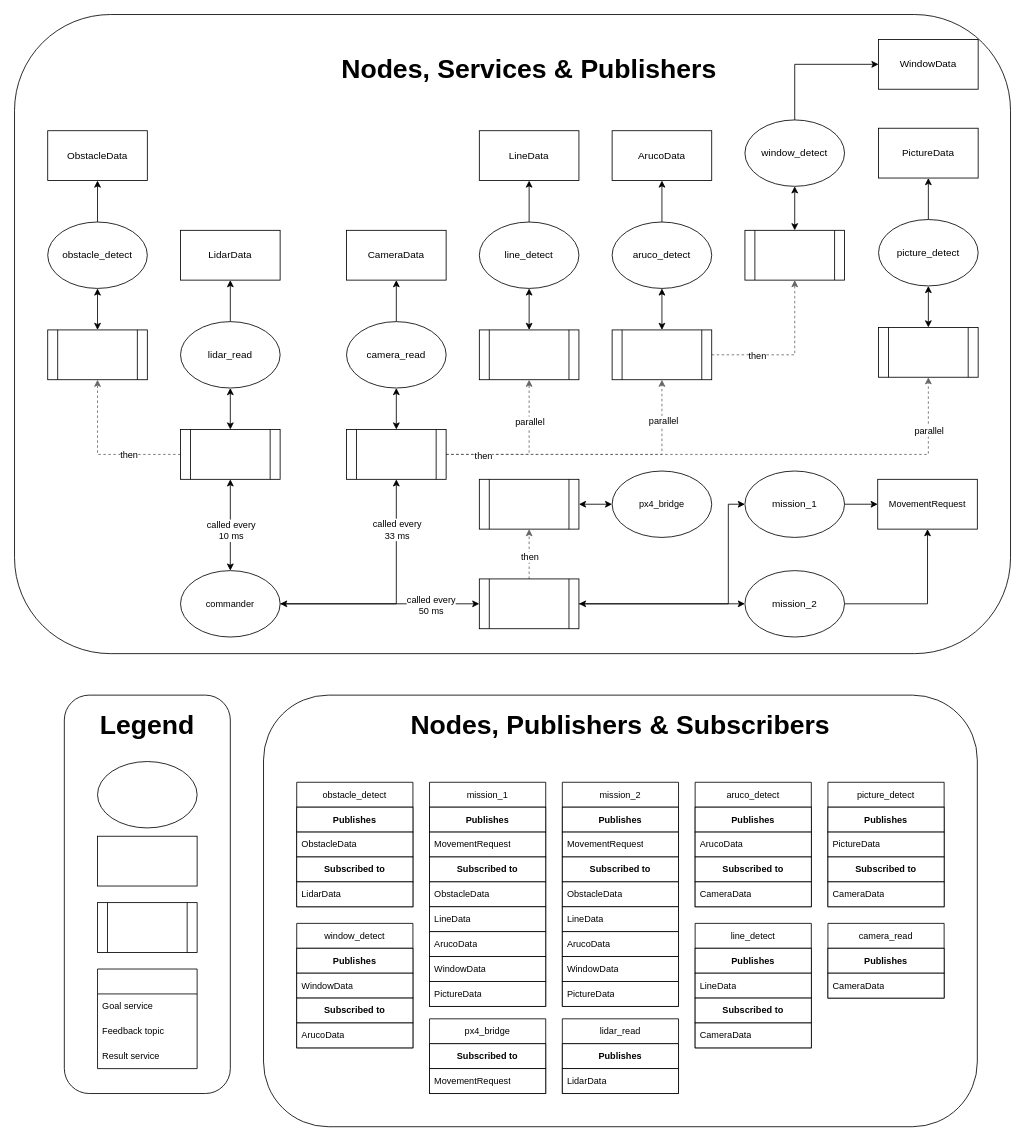
The diagram is 1025 pixels wide and 1141 high, and some of its shapes have lost their labels. Each missing label, with the box of its shape:
Action: (97, 968, 197, 1069)
detect_aruco: (611, 329, 712, 380)
detect_line: (478, 329, 579, 380)
detect_obstacle: (47, 329, 147, 380)
detect_picture: (878, 327, 978, 377)
detect_window: (744, 229, 845, 280)
Node: (97, 761, 197, 828)
process_data: (478, 578, 579, 629)
read_camera: (346, 429, 446, 479)
read_lidar: (180, 429, 280, 479)
send_to_px4: (478, 478, 579, 529)
Service: (97, 902, 197, 952)
Topic: (97, 835, 197, 886)
